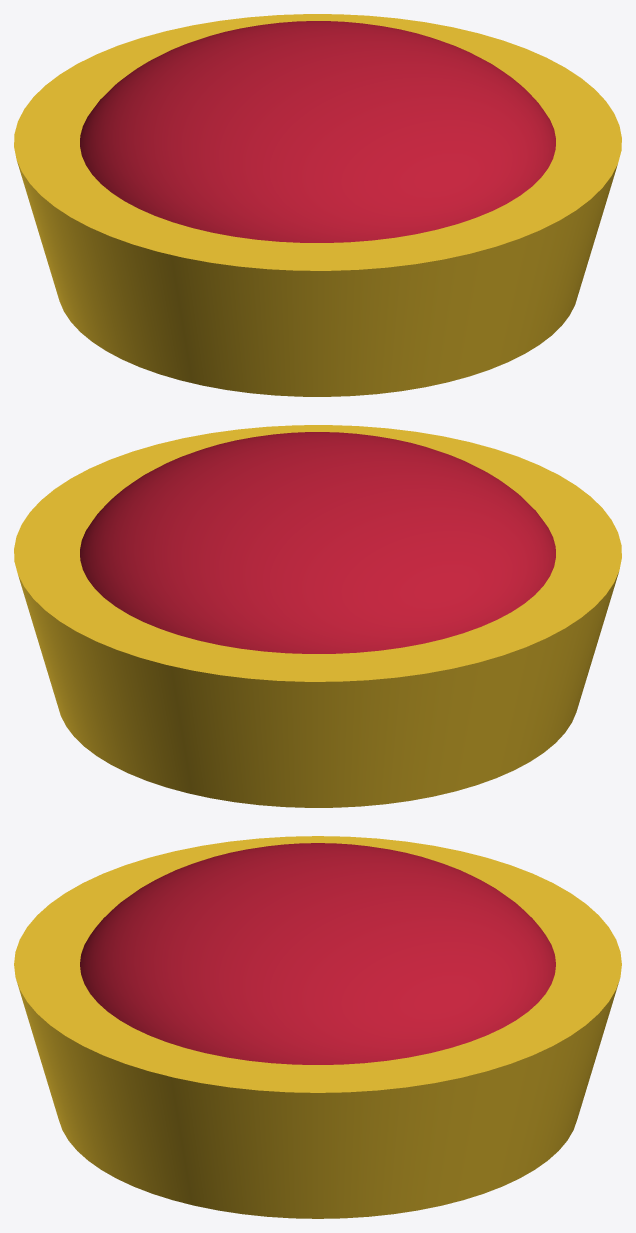
File: dominion_crown.glb
3 views of the same model, one above another, from view 1: azimuth 30°, elevation 25°; view 2: azimuth 150°, elevation 25°; view 3: azimuth 270°, elevation 25° (orthographic).
Visible parts, largest first — view 1: CrownBand, VelvetCap; view 2: CrownBand, VelvetCap; view 3: CrownBand, VelvetCap.
Boxes of the visible parts, bbox=[...] form: CrownBand: bbox=[14, 14, 621, 396]; VelvetCap: bbox=[80, 21, 555, 242]; CrownBand: bbox=[14, 425, 621, 807]; VelvetCap: bbox=[80, 432, 555, 653]; CrownBand: bbox=[14, 836, 621, 1218]; VelvetCap: bbox=[80, 843, 555, 1064].
Bounding box in the file's own units: 0.84 × 0.34 × 0.84.
